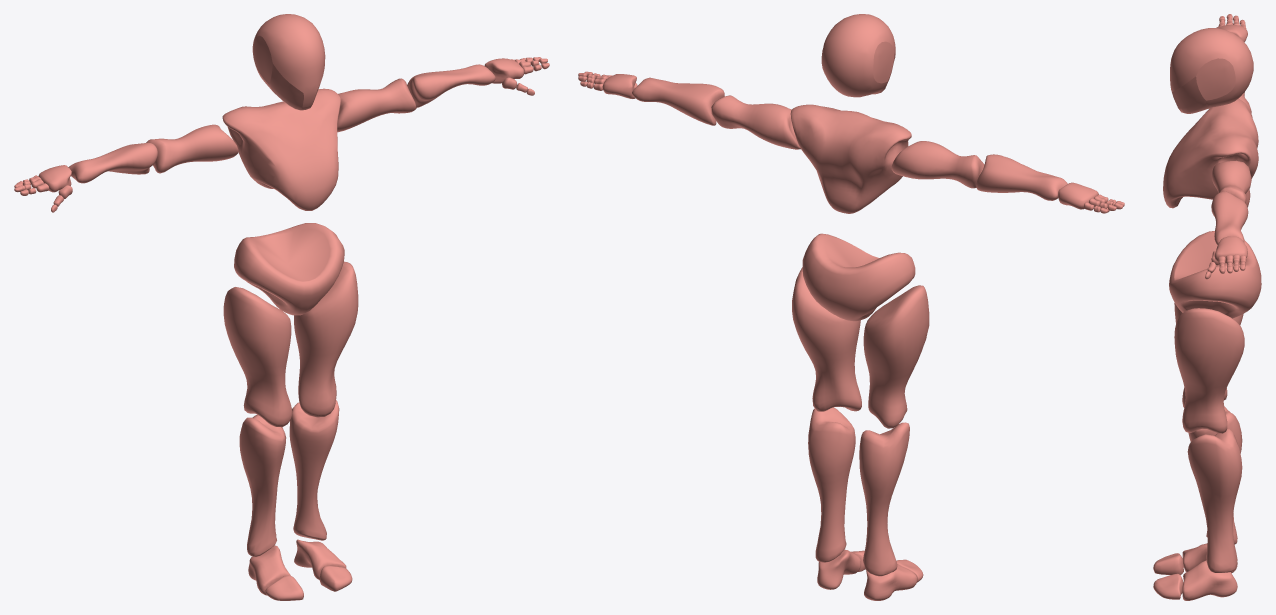
File: body-81cfacbf.glb
The picture shows the model from 3 angles, left to right: view 1: azimuth 30°, elevation 25°; view 2: azimuth 150°, elevation 25°; view 3: azimuth 270°, elevation 25°; orthographic projection. The views are drawn at different scales.
Visible parts, largest first — view 1: Beta_Surface; view 2: Beta_Surface; view 3: Beta_Surface.
Boxes of the visible parts, x1,y1,x2,y2 form: Beta_Surface: (14,14,549,600); Beta_Surface: (578,14,1124,600); Beta_Surface: (1153,14,1261,600).
Size of the model in its own units: 0.1662 by 0.1665 by 0.0295.
